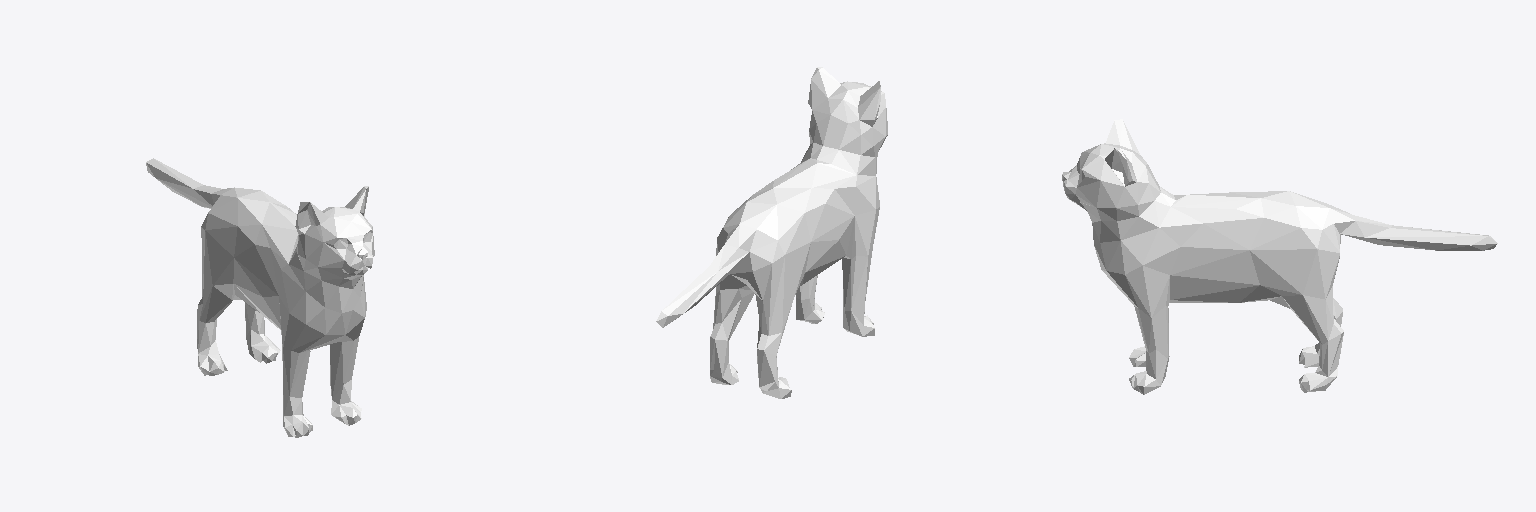
Rendered from Cat_low_poly.obj.
3 views of the same model, side by side, from view 1: azimuth 30°, elevation 25°; view 2: azimuth 150°, elevation 25°; view 3: azimuth 270°, elevation 25° (orthographic).
Visible parts, largest first — view 1: 12221_Cat_v1_l3.001; view 2: 12221_Cat_v1_l3.001; view 3: 12221_Cat_v1_l3.001.
Boxes of the visible parts, box(x1,y1,x2,y2) form: 12221_Cat_v1_l3.001: box(146, 158, 374, 437); 12221_Cat_v1_l3.001: box(656, 67, 887, 398); 12221_Cat_v1_l3.001: box(1062, 119, 1497, 394).
Bounding box in the file's own units: 1.32 × 3.86 × 6.27.